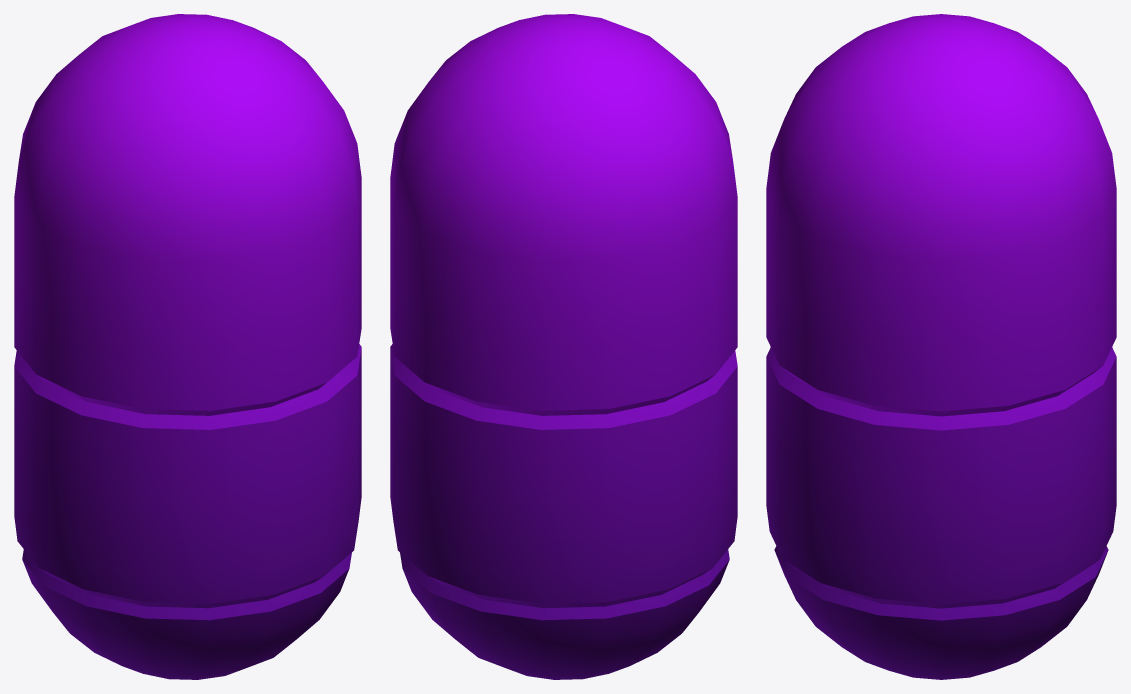
Rendered from Capsule_Body_AD_01.fbx.
3 views of the same model, side by side, from view 1: azimuth 30°, elevation 25°; view 2: azimuth 150°, elevation 25°; view 3: azimuth 270°, elevation 25° (orthographic).
Visible parts, largest first — view 1: Capsule_Body_AD_01; view 2: Capsule_Body_AD_01; view 3: Capsule_Body_AD_01.
Boxes of the visible parts, x1,y1,x2,y2 form: Capsule_Body_AD_01: (14,14,361,679); Capsule_Body_AD_01: (390,14,737,679); Capsule_Body_AD_01: (766,14,1116,679).
Bounding box in the file's own units: 100 × 200 × 100.
